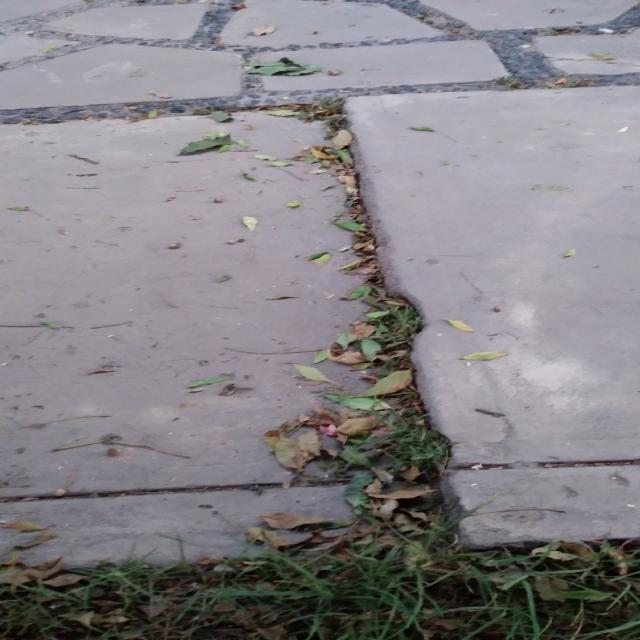hole: (302, 342, 471, 544)
